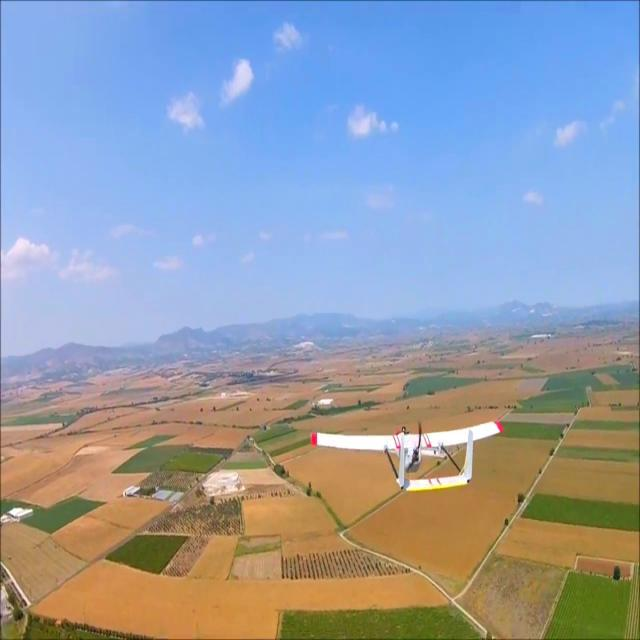iha: (310, 447, 505, 451)
